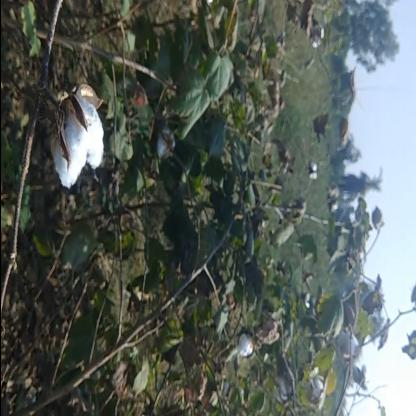cotton_ready: (28, 74, 116, 202)
